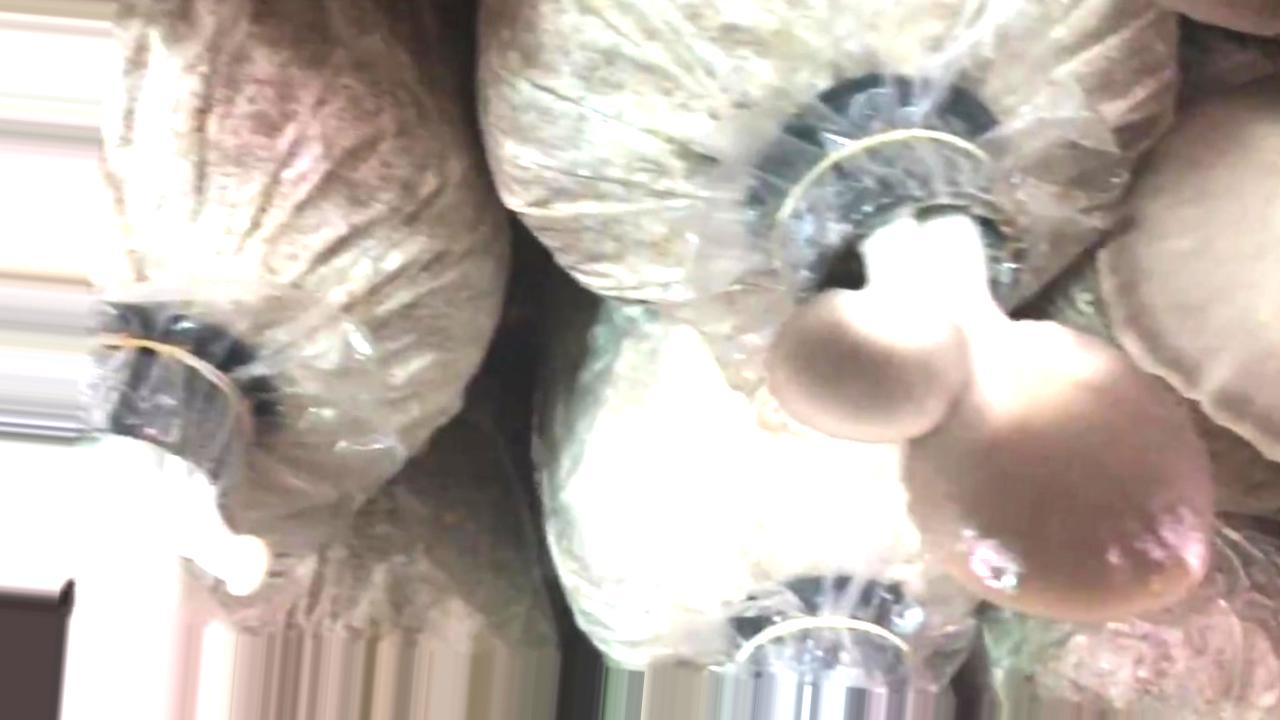nam: (760, 95, 1214, 623)
